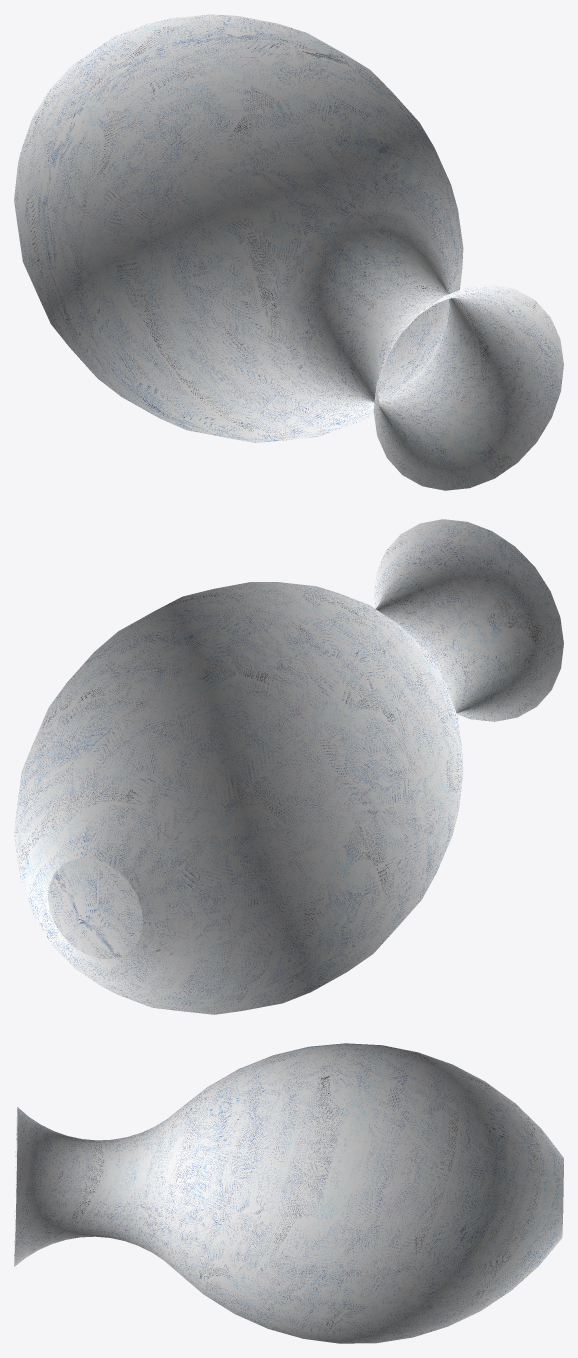
Rendered from model_scale.obj.
3 renders of one model, top to bottom at view 1: azimuth 30°, elevation 25°; view 2: azimuth 150°, elevation 25°; view 3: azimuth 270°, elevation 25°, orthographic. The views are drawn at different scales.
Parts seen in each view (by area): view 1: mesh1_mesh1-geometry; view 2: mesh1_mesh1-geometry; view 3: mesh1_mesh1-geometry.
Boxes of the visible parts, x1,y1,x2,y2 form: mesh1_mesh1-geometry: (14, 14, 563, 490); mesh1_mesh1-geometry: (14, 519, 563, 1014); mesh1_mesh1-geometry: (14, 1043, 563, 1343).
Bounding box in the file's own units: 0.0718 × 0.0718 × 0.131.
2 materials, 1 textured.
